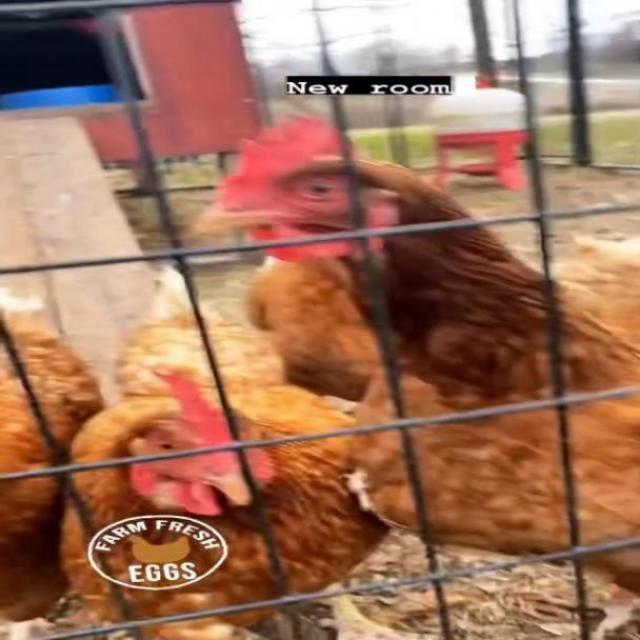Chicken: (182, 115, 640, 595), (61, 265, 416, 640), (249, 239, 640, 403), (0, 284, 106, 640)
